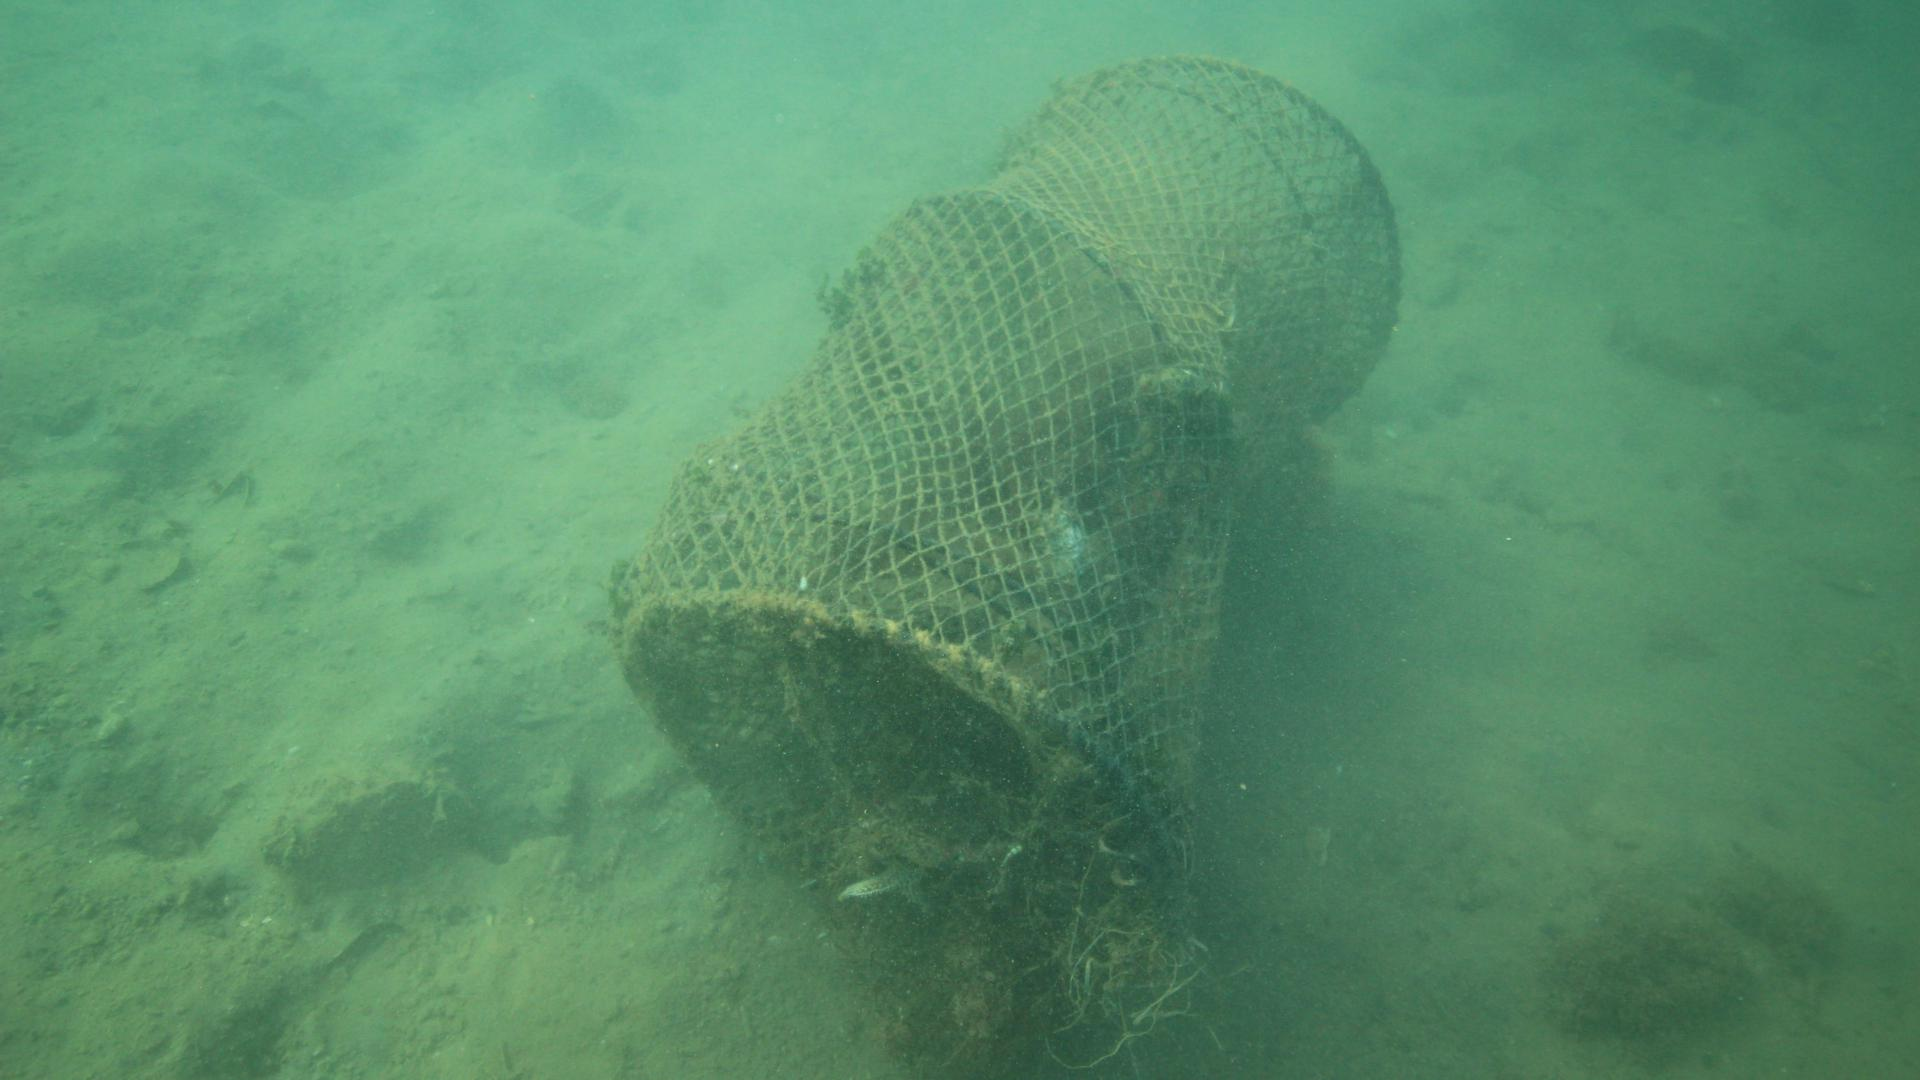spring fish trap: (615, 54, 1406, 978)
